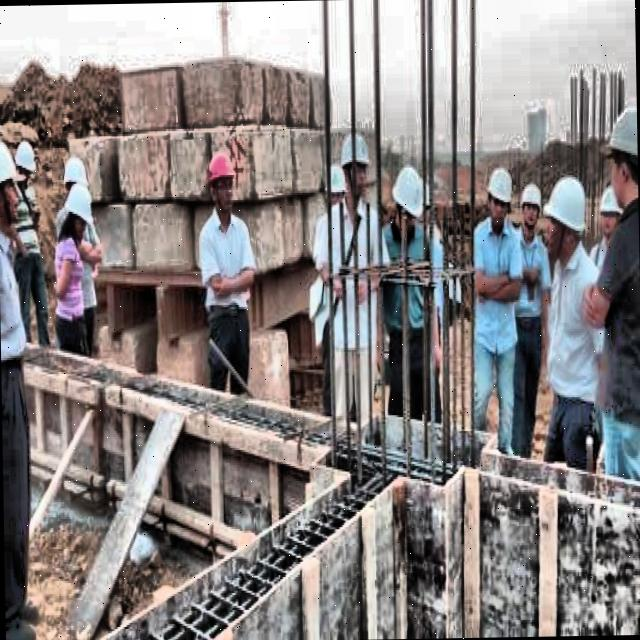helmet: (602, 103, 636, 210), (545, 174, 587, 258), (389, 160, 427, 232), (338, 132, 374, 202), (481, 165, 515, 230), (205, 146, 237, 215), (0, 137, 23, 231), (62, 182, 94, 248), (596, 177, 626, 240), (518, 180, 544, 233), (322, 162, 347, 212), (63, 160, 87, 210), (12, 140, 34, 187)
